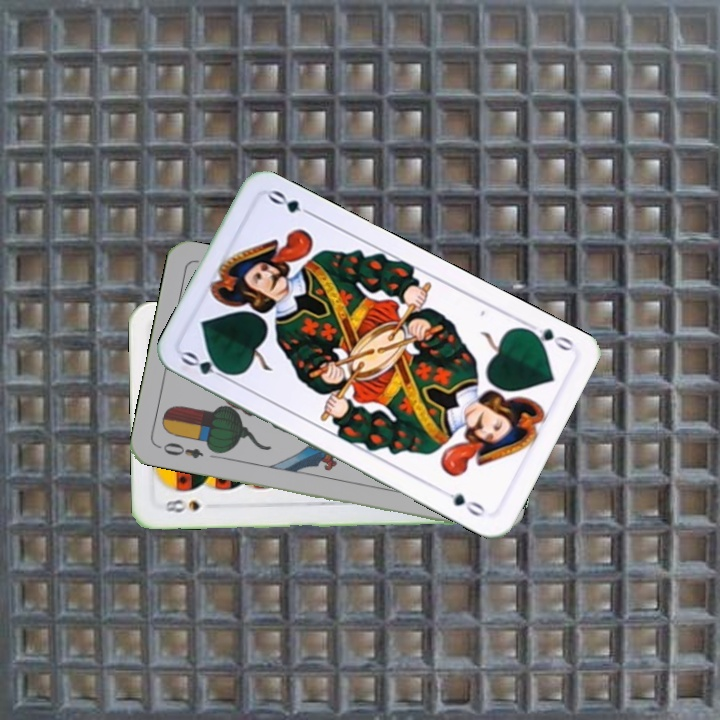EO: (154, 438, 206, 462)
GO: (177, 347, 236, 384), (519, 318, 576, 354)
S8: (161, 495, 203, 515)
